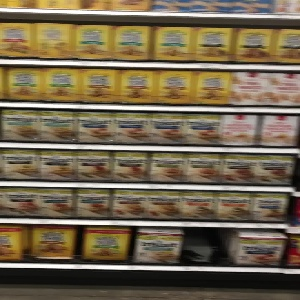void: (182, 227, 236, 263)
